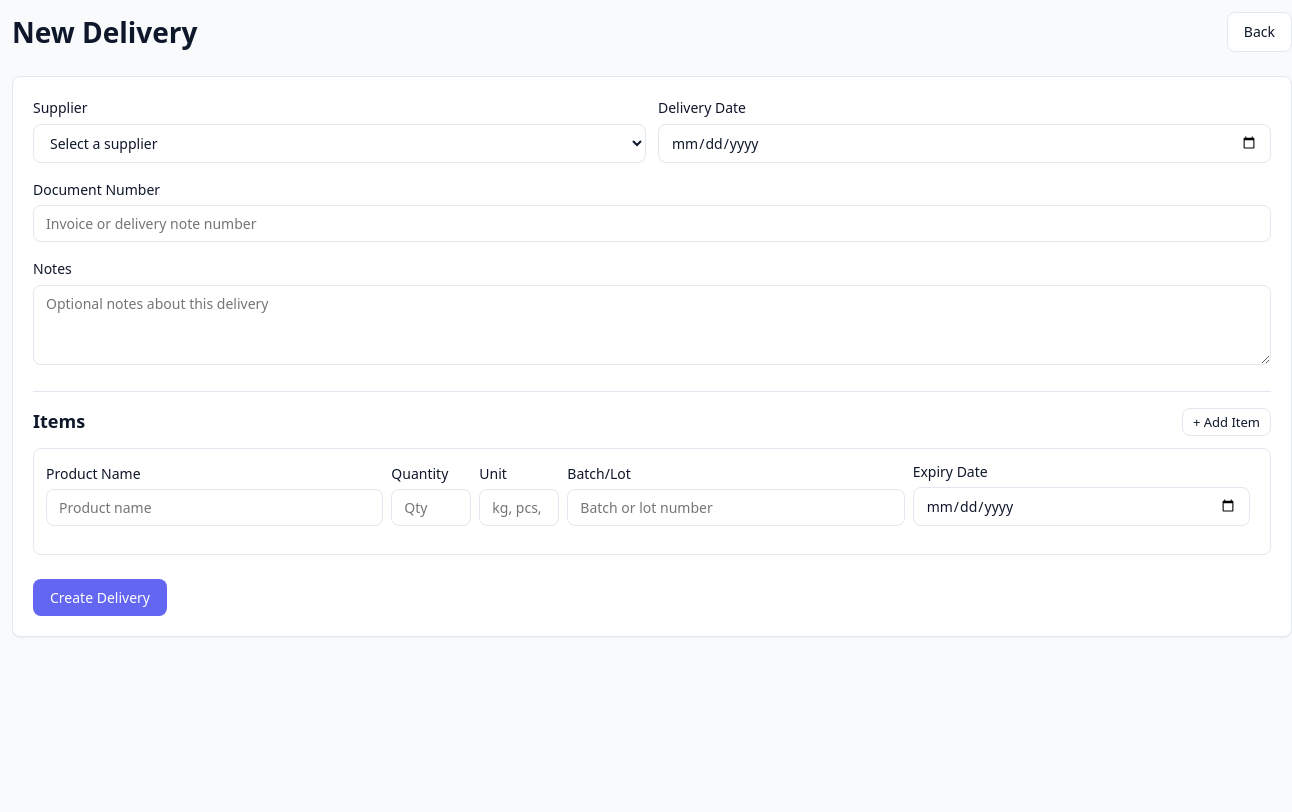
Test: DeliveryCreateView › adds and removes delivery item rows
Check: the number of fields with placeholder "Product name" is 1, box [46, 489, 383, 526]
Click the button "+ Add Item". click: x=1226, y=422
box: [1182, 408, 1271, 436]
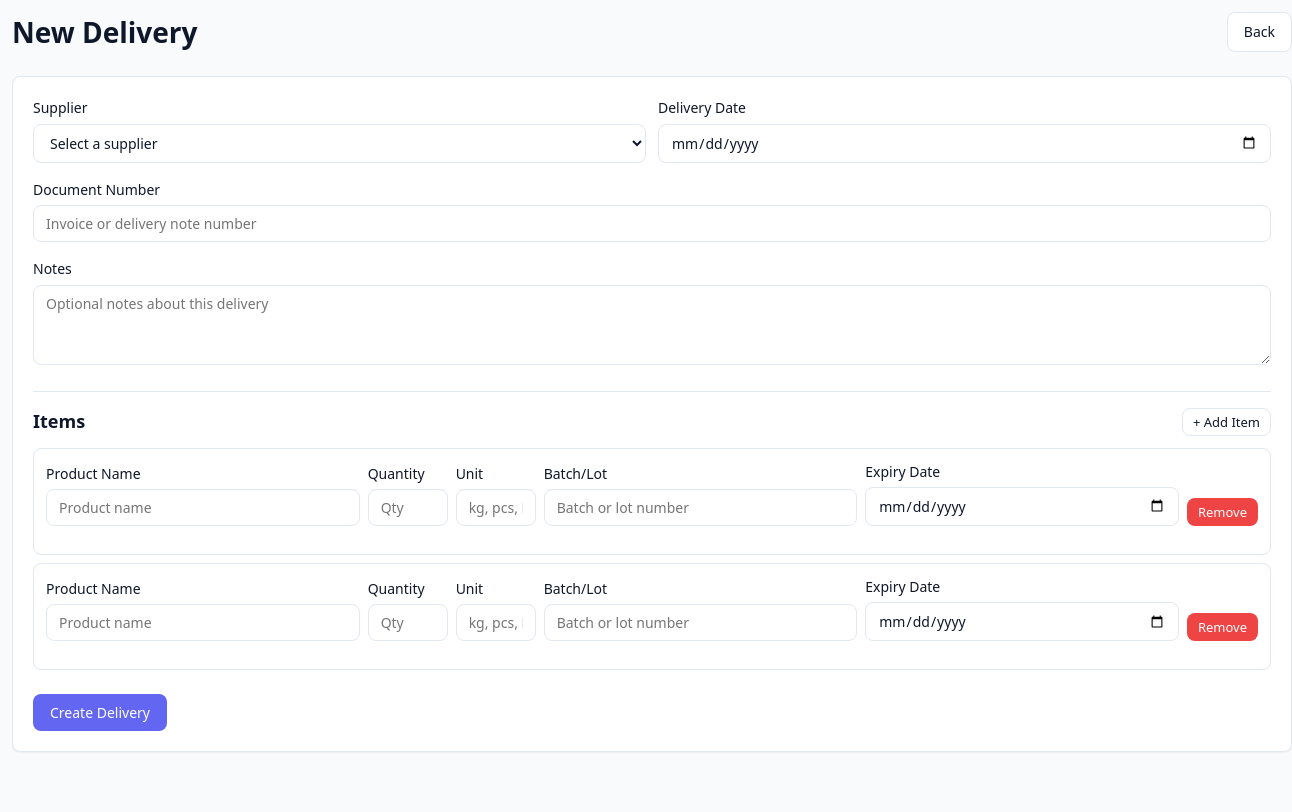
Check: the number of fields with placeholder "Product name" is 2, box [46, 489, 360, 526]; [46, 604, 360, 641]
Click the 1st button "Remove". click: x=1222, y=512
box: [1187, 498, 1258, 526]
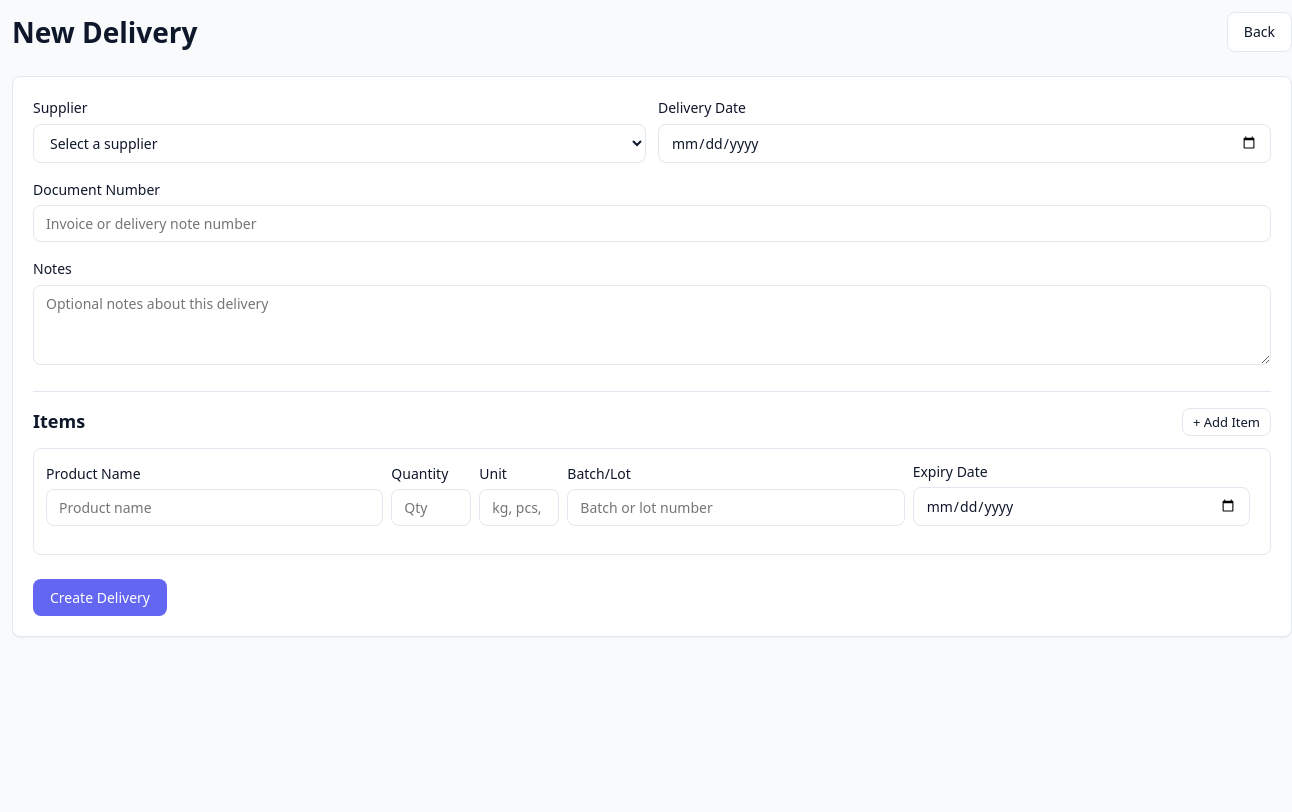
Check: the number of fields with placeholder "Product name" is 1, box [46, 489, 383, 526]
